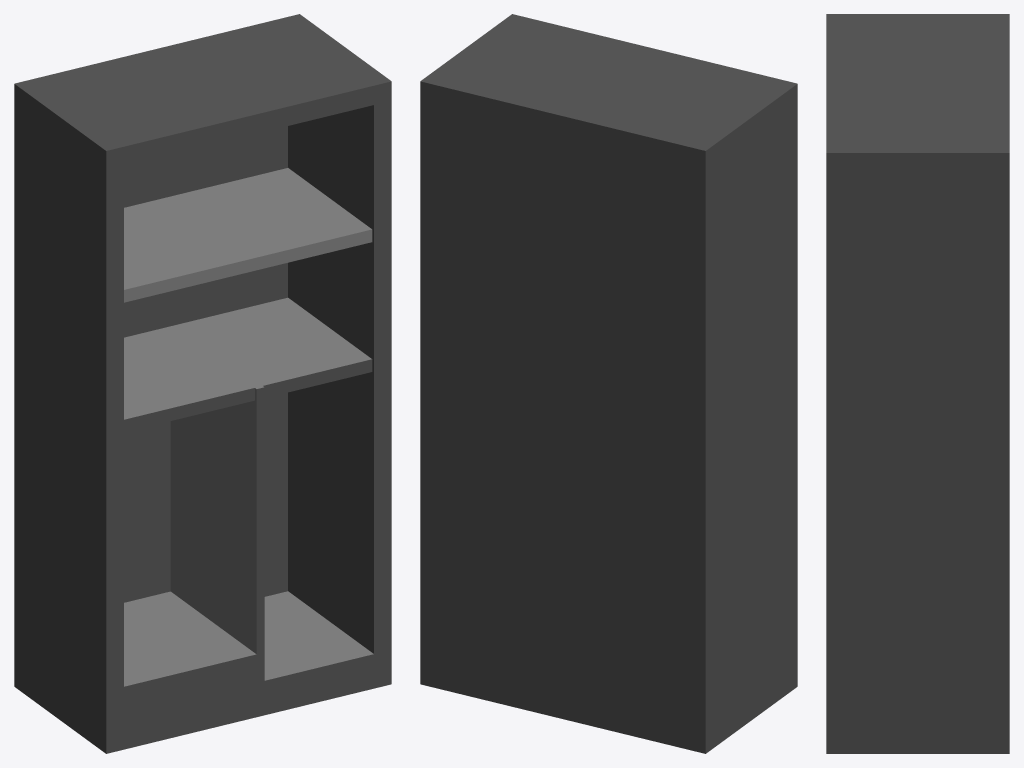
Rendered from Shelf_Base.fbx.
The picture shows the model from 3 angles, left to right: view 1: azimuth 30°, elevation 25°; view 2: azimuth 150°, elevation 25°; view 3: azimuth 270°, elevation 25°; orthographic projection.
Visible parts, largest first — view 1: Shelf_Base; view 2: Shelf_Base; view 3: Shelf_Base.
Boxes of the visible parts, <box> form: Shelf_Base: <box>14,14,391,753</box>; Shelf_Base: <box>420,14,797,753</box>; Shelf_Base: <box>826,14,1009,753</box>.
Bounding box in the file's own units: 99.27 × 200 × 55.43.
